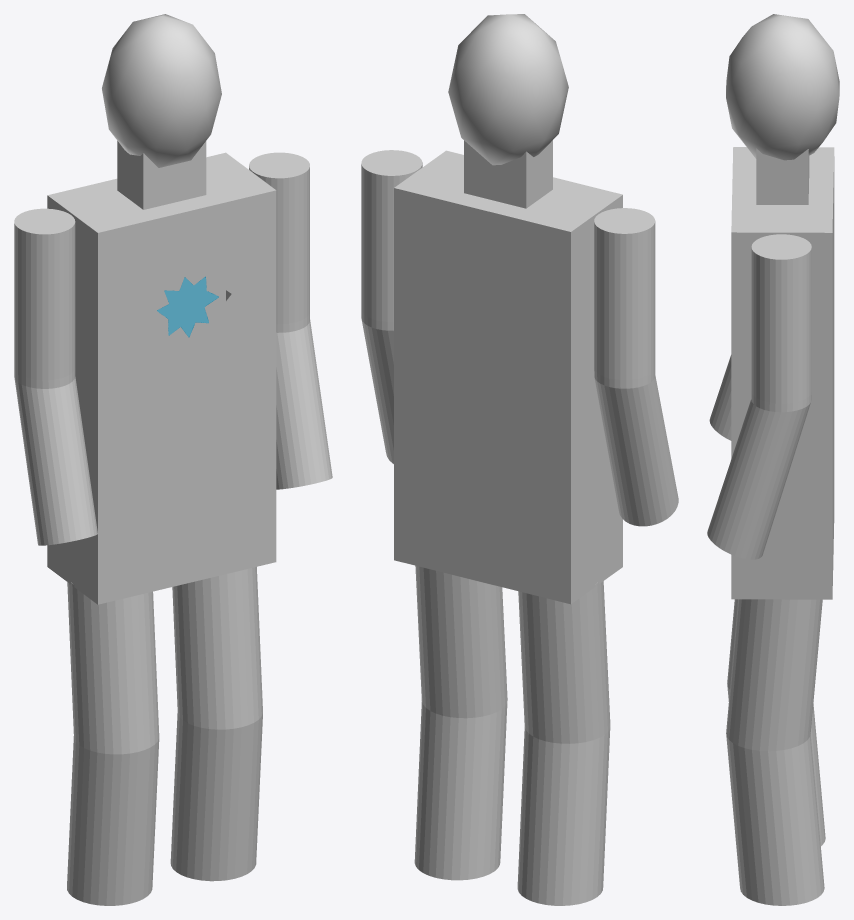
File: Character.fbx
3 renders of one model, left to right at view 1: azimuth 30°, elevation 25°; view 2: azimuth 150°, elevation 25°; view 3: azimuth 270°, elevation 25°, orthographic.
Parts seen in each view (by area): view 1: Torso, RightLeg, LeftLeg, RightArm, Head, LeftArm, Neck; view 2: Torso, RightLeg, LeftLeg, RightArm, Head, LeftArm, Neck; view 3: Torso, LeftLeg, LeftArm, Head, Neck, RightLeg, RightArm.
Part boxes in pixels (x1,y1,x2,y2): Torso: [47, 152, 276, 604]; RightLeg: [67, 582, 159, 905]; LeftLeg: [170, 567, 262, 881]; RightArm: [14, 208, 97, 545]; Head: [102, 14, 221, 167]; LeftArm: [249, 152, 332, 489]; Neck: [117, 141, 206, 209]; Torso: [394, 150, 622, 604]; RightLeg: [517, 581, 610, 905]; LeftLeg: [414, 565, 507, 880]; RightArm: [594, 208, 678, 526]; Head: [448, 14, 568, 165]; LeftArm: [361, 150, 422, 463]; Neck: [464, 140, 552, 208]; Torso: [731, 147, 834, 599]; LeftLeg: [726, 599, 824, 905]; LeftArm: [707, 234, 811, 559]; Head: [726, 14, 839, 160]; Neck: [756, 149, 809, 204]; RightLeg: [727, 599, 825, 845]; RightArm: [709, 355, 731, 440].
Size of the model in its own units: 1.62 by 4.62 by 0.6553.
